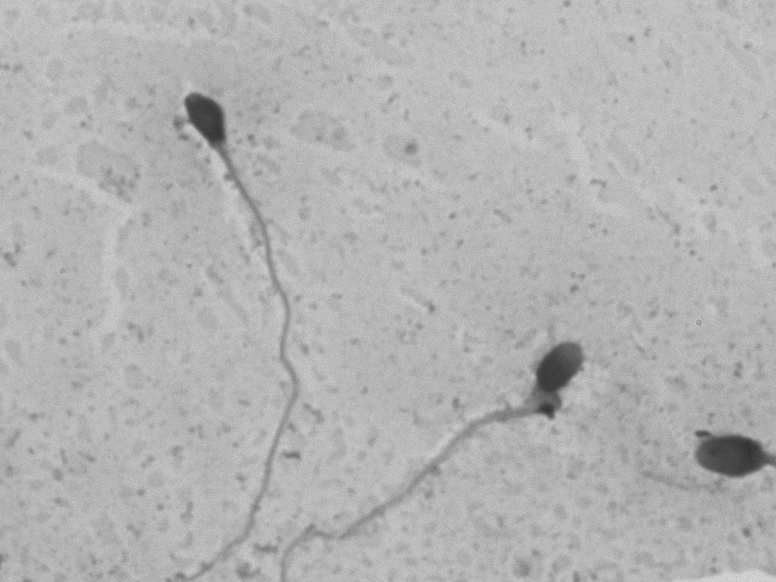Abnormal: (145, 72, 315, 495), (379, 301, 613, 545)
